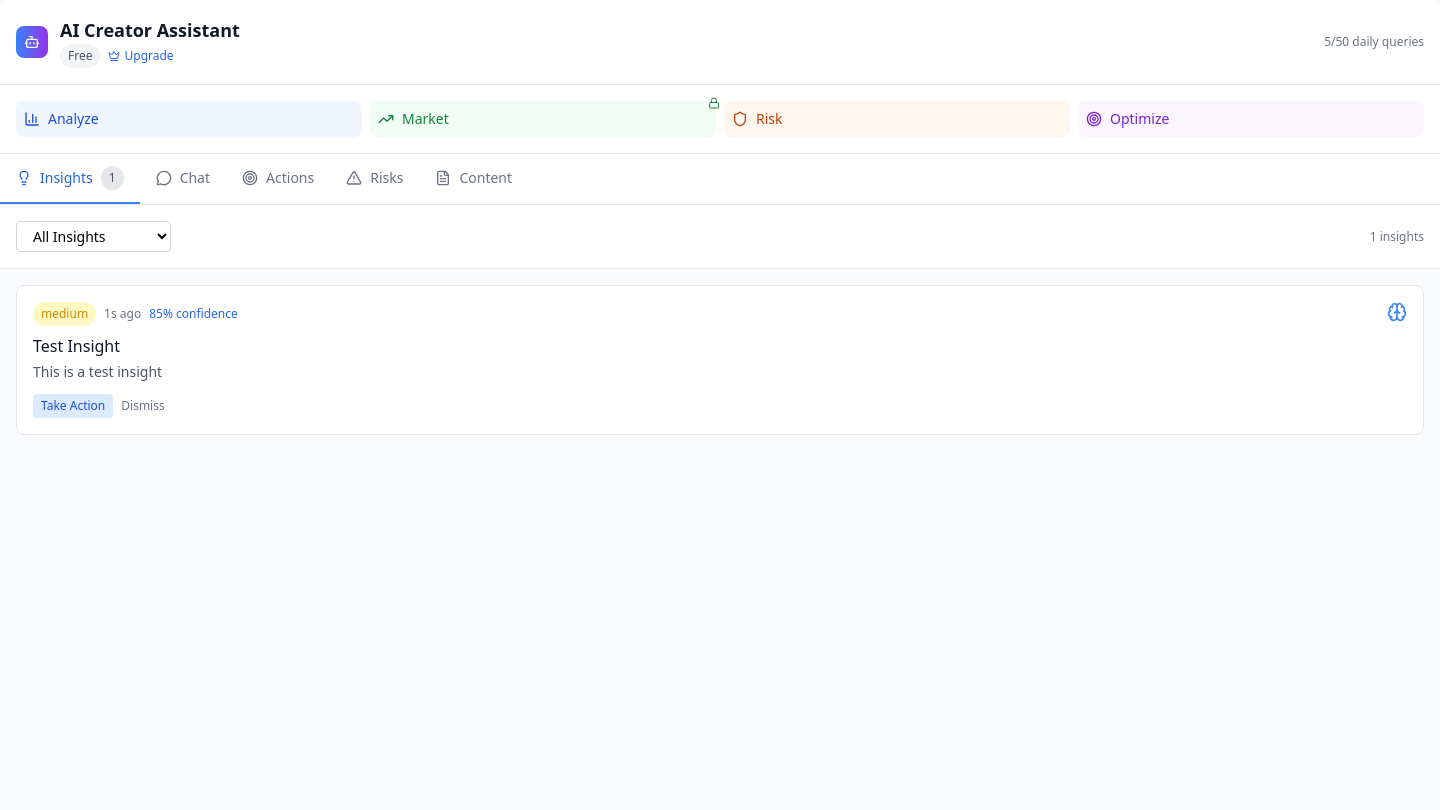
Test: AIAssistantInterface › shows upgrade modal for premium features
Click the button "Market": {"x": 425, "y": 118} [370,101,716,137]
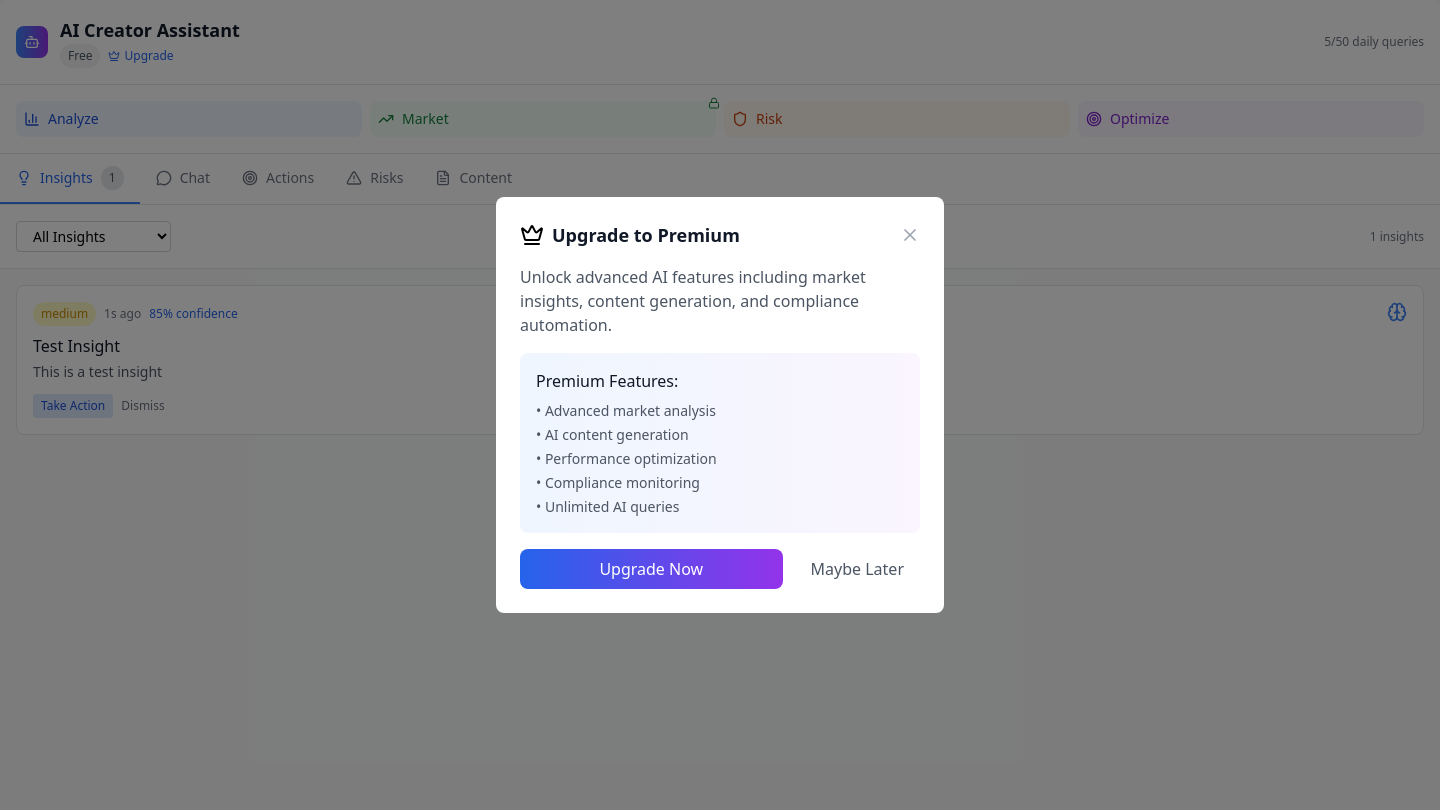
Expected: the heading "Upgrade to Premium" is shown, [552,221,740,249]
